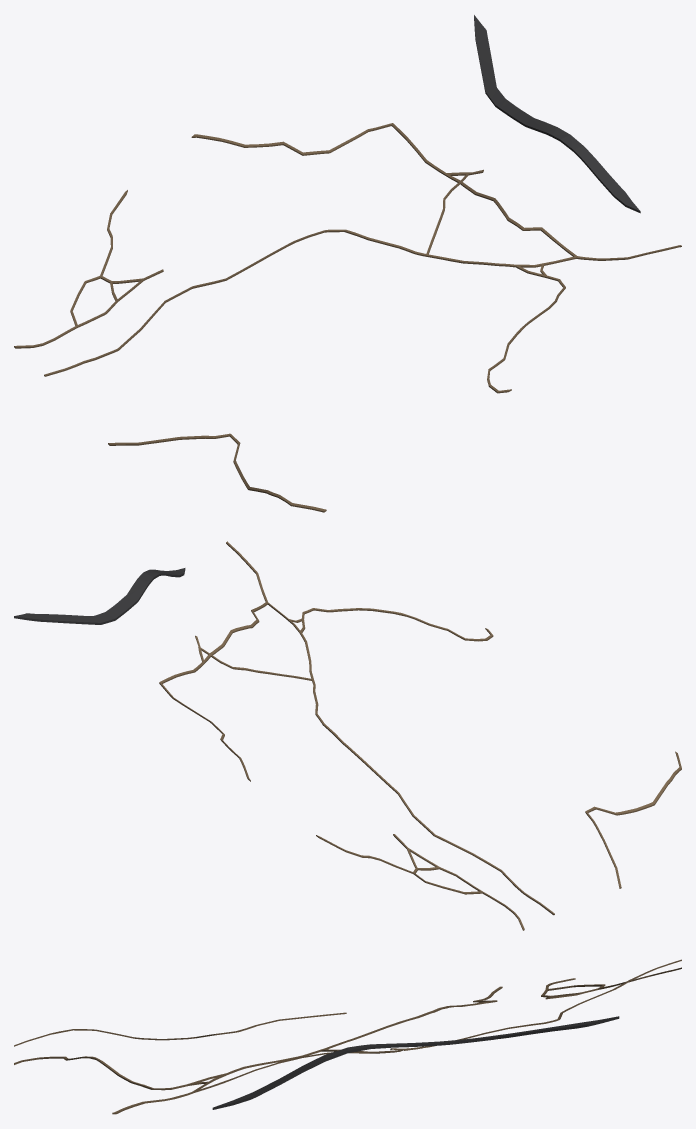
3 views of the same model, one above another, from view 1: azimuth 30°, elevation 25°; view 2: azimuth 150°, elevation 25°; view 3: azimuth 270°, elevation 25° (orthographic). The views are drawn at different scales.
Bounding box in the file's own units: 293 × 136 × 292.
